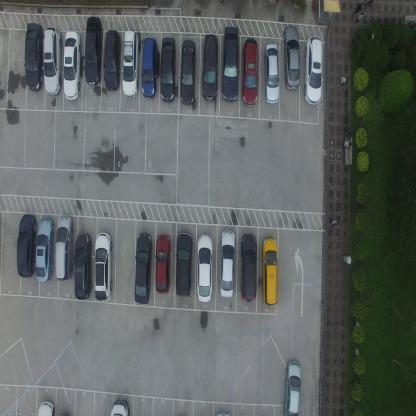car: (303, 36, 324, 107), (221, 25, 240, 102), (24, 21, 44, 92), (16, 213, 37, 279), (134, 232, 153, 304), (84, 16, 103, 87), (62, 31, 81, 101), (261, 234, 279, 306), (94, 230, 112, 302), (73, 232, 92, 300), (35, 216, 54, 284), (241, 37, 259, 108), (240, 232, 258, 303), (174, 230, 193, 297), (55, 215, 74, 282), (201, 34, 219, 104), (43, 27, 61, 97), (282, 25, 300, 93), (122, 30, 140, 98), (219, 228, 236, 299), (159, 35, 176, 104), (179, 38, 196, 105), (196, 233, 212, 304), (263, 42, 280, 106), (103, 29, 120, 92), (282, 359, 301, 415), (141, 36, 158, 98), (155, 233, 171, 294), (109, 397, 130, 415), (37, 400, 55, 416)
